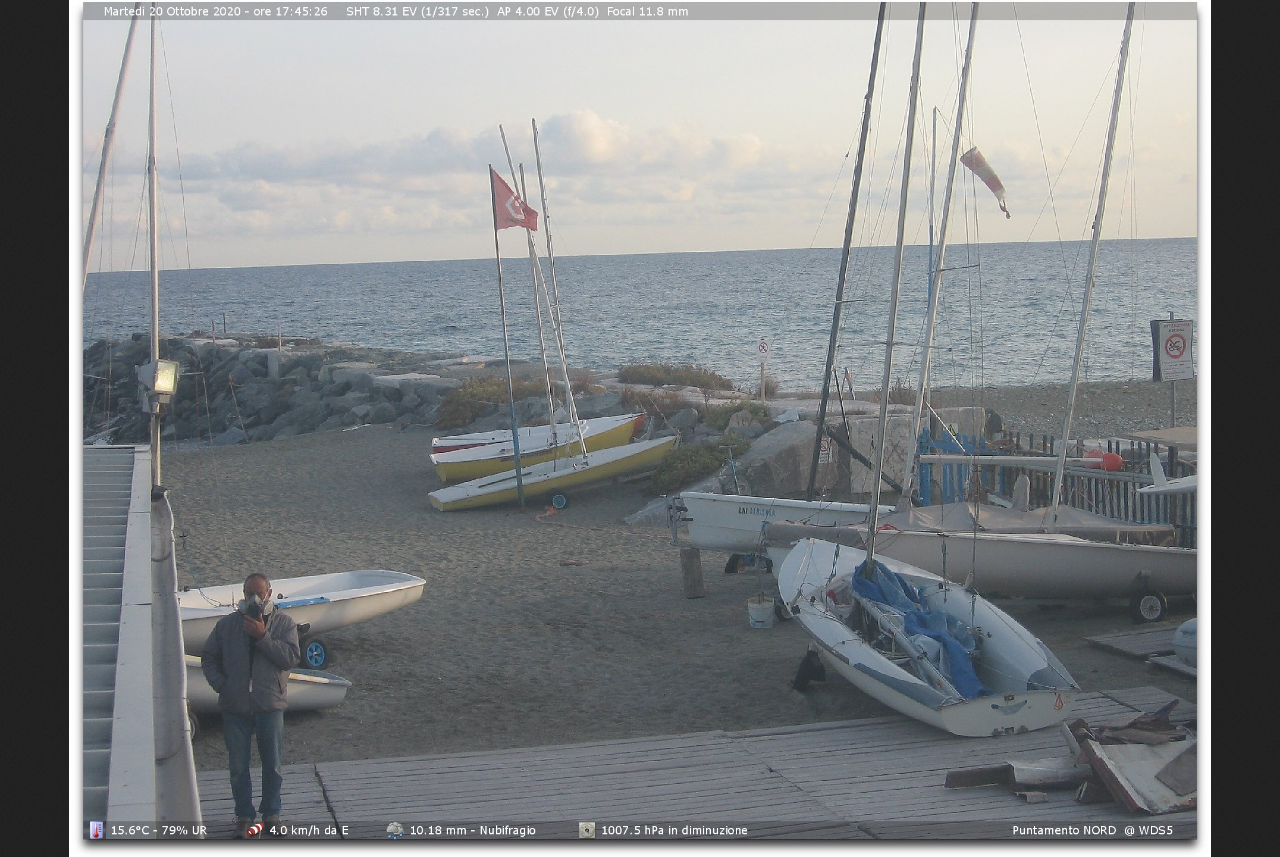maybe: (480, 158, 546, 240)
